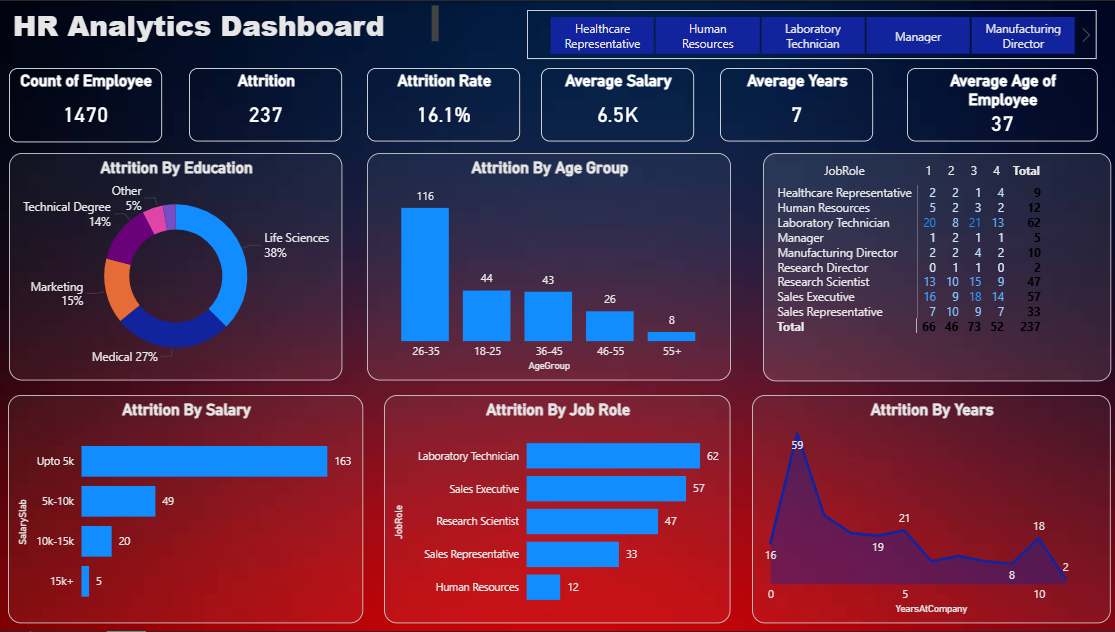

This screenshot's page, from the dashboard's own definition file:
{"tool":"powerbi","page":{"name":"Page 1","canvas":[1280,720],"ordinal":0},"visuals":[{"type":"card","title":"Count of Employee","fields":{"Values":["CountNonNull(HR_Analytics (2).EmpID)"]},"box":[12.6,76.6,174.9,84.6],"z":0},{"type":"card","title":"Attrition Rate","fields":{"Values":["HR_Analytics (2).AttritionRate"]},"box":[421.2,76.2,175,83.8],"z":1000},{"type":"card","title":"Average Age of Employee","fields":{"Values":["Avg(HR_Analytics (2).Age)"]},"box":[1038.8,76.2,217.5,83.8],"z":2000},{"type":"card","title":"Average Salary","fields":{"Values":["Avg(HR_Analytics (2).MonthlyIncome)"]},"box":[620,76.2,175,83.8],"z":3000},{"type":"card","title":"Average Years","fields":{"Values":["Avg(HR_Analytics (2).YearsAtCompany)"]},"box":[825,76.2,175,83.8],"z":4000},{"type":"card","title":"Attrition","fields":{"Values":["Sum(HR_Analytics (2).AttritionCount)"]},"box":[218.8,76.2,175,83.8],"z":5000},{"type":"donutChart","title":"Attrition By Education","fields":{"Category":["HR_Analytics (2).EducationField"],"Y":["Sum(HR_Analytics (2).AttritionCount)"]},"box":[12.5,173.8,381.2,260],"z":6000},{"type":"columnChart","title":"Attrition By Age Group","fields":{"Category":["HR_Analytics (2).AgeGroup"],"Y":["Sum(HR_Analytics (2).AttritionCount)"]},"box":[421.2,173.8,416.2,260],"z":7000},{"type":"pivotTable","fields":{"Rows":["HR_Analytics (2).JobRole"],"Columns":["HR_Analytics (2).JobSatisfaction"],"Values":["Sum(HR_Analytics (2).AttritionCount)"]},"box":[874.3,173.7,397.7,260.6],"z":8000},{"type":"barChart","title":"Attrition By Salary","fields":{"Category":["HR_Analytics (2).SalarySlab"],"Y":["Sum(HR_Analytics (2).AttritionCount)"]},"box":[11.2,450,406.2,261.2],"z":9000},{"type":"barChart","title":"Attrition By Job Role","fields":{"Y":["Sum(HR_Analytics (2).AttritionCount)"],"Category":["HR_Analytics (2).JobRole"]},"box":[441.2,450,396.2,261.2],"z":10000},{"type":"areaChart","title":"Attrition By Years","fields":{"Y":["Sum(HR_Analytics (2).AttritionCount)"],"Category":["HR_Analytics (2).YearsAtCompany"]},"box":[861.2,450,410,261.2],"z":11000},{"type":"slicer","fields":{"Values":["HR_Analytics (2).JobRole"]},"box":[605,10,651.2,56.2],"z":12000},{"type":"textbox","box":[12.5,0,496.2,52.5],"z":13000}]}

Visuals, with their boxes in screenshot pixels (x1, y1, x2, y2), scaled from the page's 1280x720 canvas onto the 1115x632 screenshot:
"Count of Employee" card: 11/67/163/141
"Attrition Rate" card: 367/67/519/140
"Average Age of Employee" card: 905/67/1094/140
"Average Salary" card: 540/67/693/140
"Average Years" card: 719/67/871/140
"Attrition" card: 191/67/343/140
"Attrition By Education" donutChart: 11/153/343/381
"Attrition By Age Group" columnChart: 367/153/729/381
pivotTable - HR_Analytics (2).JobRole x HR_Analytics (2).JobSatisfaction: 762/152/1108/381
"Attrition By Salary" barChart: 10/395/364/624
"Attrition By Job Role" barChart: 384/395/729/624
"Attrition By Years" areaChart: 750/395/1107/624
slicer - HR_Analytics (2).JobRole: 527/9/1094/58
textbox: 11/0/443/46
